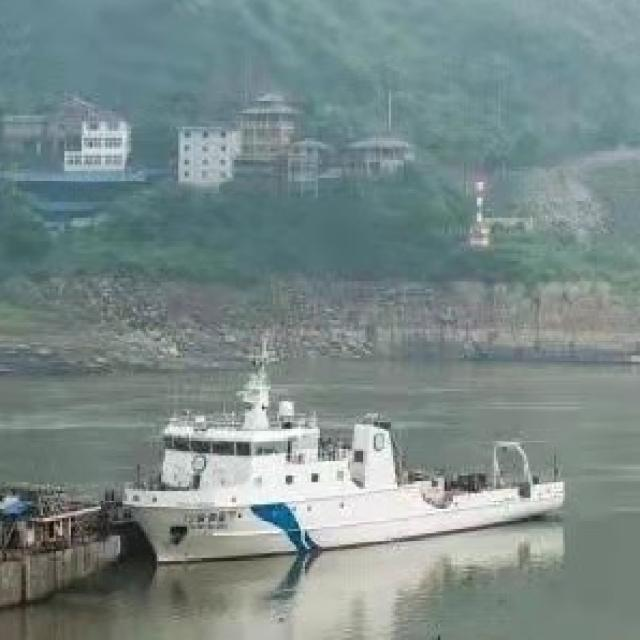houseboat: (130, 364, 598, 581)
